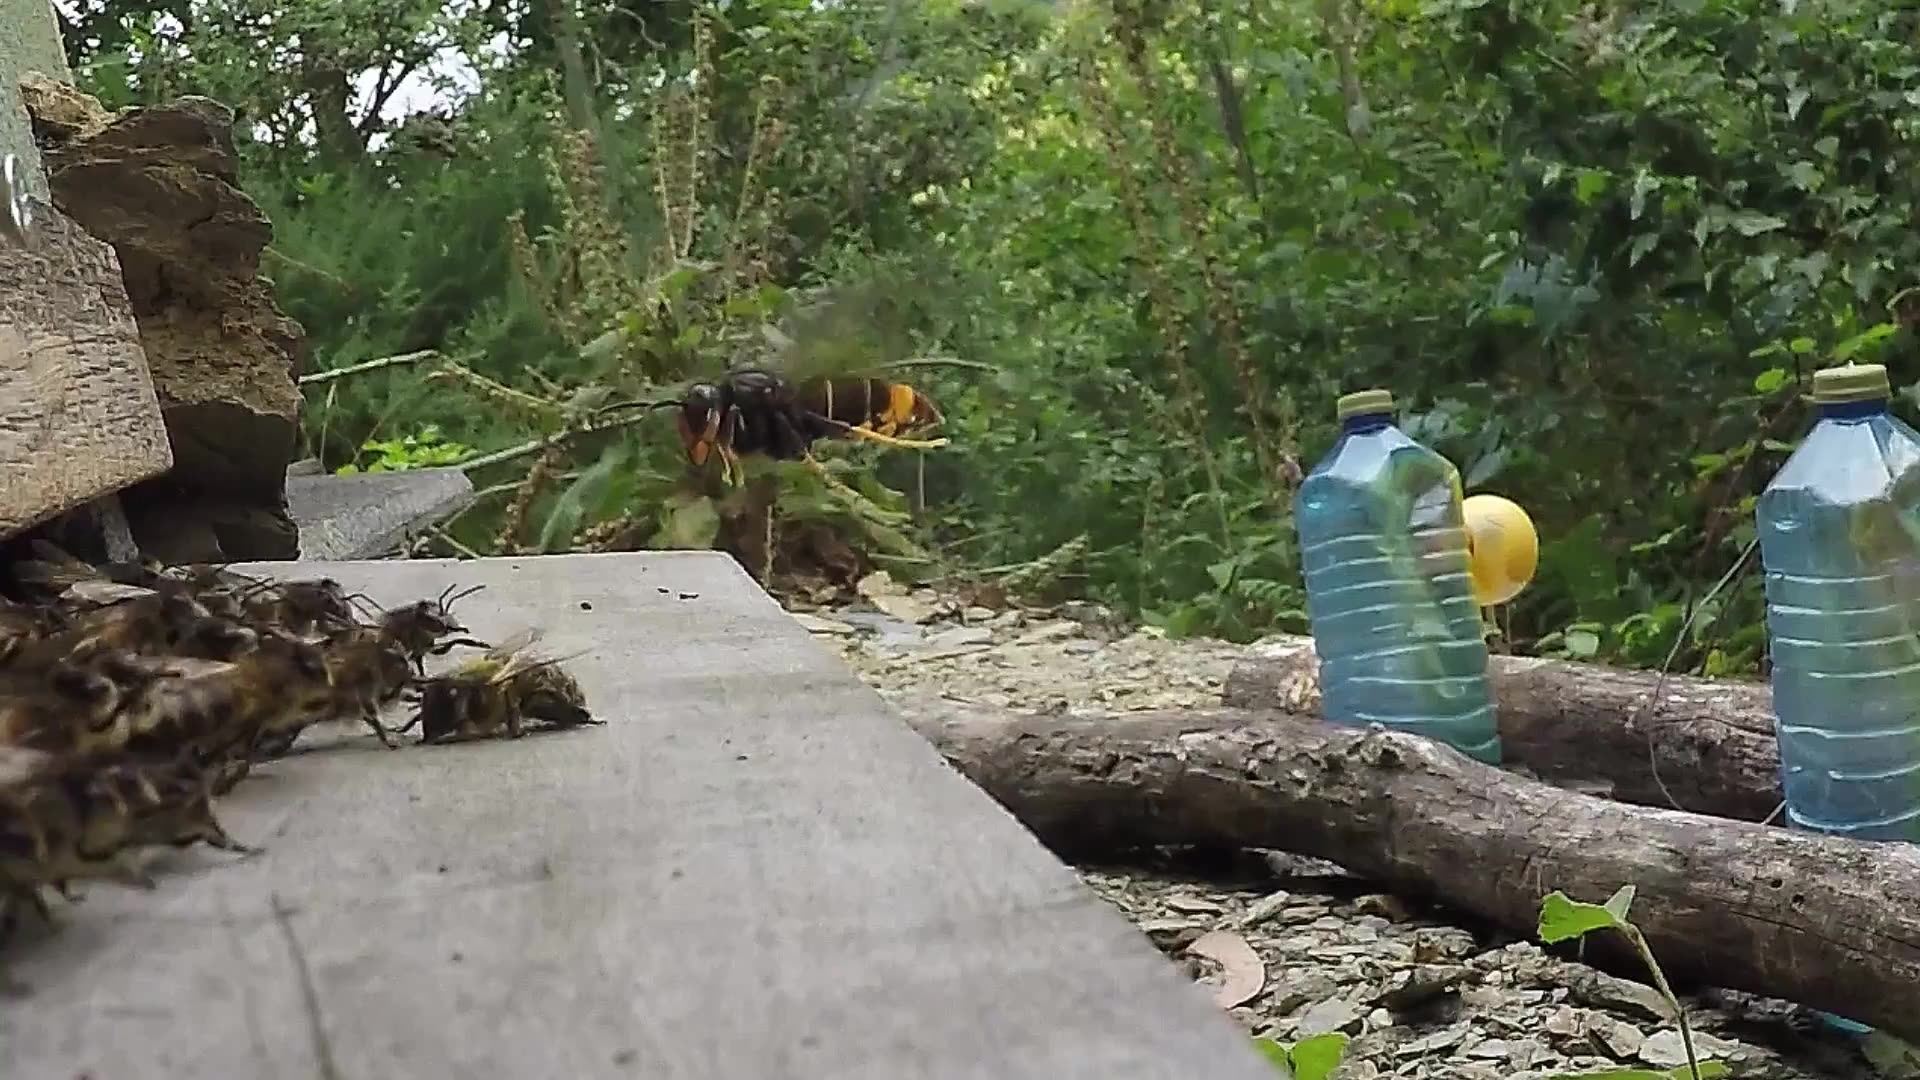bee: (1, 538, 298, 909), (293, 564, 467, 750), (411, 647, 605, 753)
hornet: (667, 360, 963, 500)
